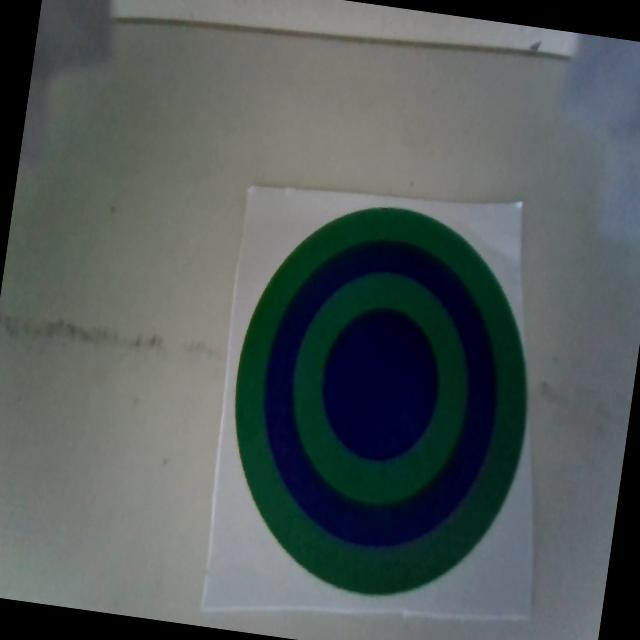cogn: (207, 187, 554, 615)
